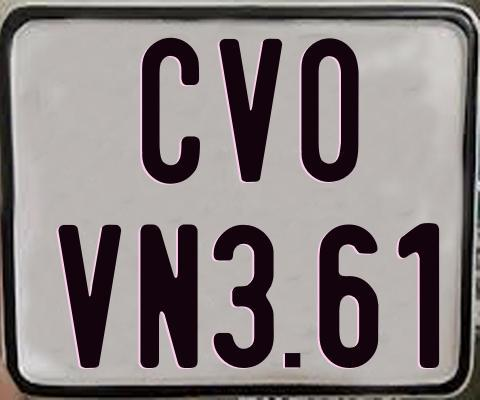0: (298, 35, 360, 184)
1: (396, 223, 443, 371)
3: (213, 223, 275, 366)
6: (316, 221, 379, 371)
C: (139, 37, 201, 184)
N: (137, 221, 200, 368)
V: (216, 36, 284, 182), (56, 222, 123, 369)
